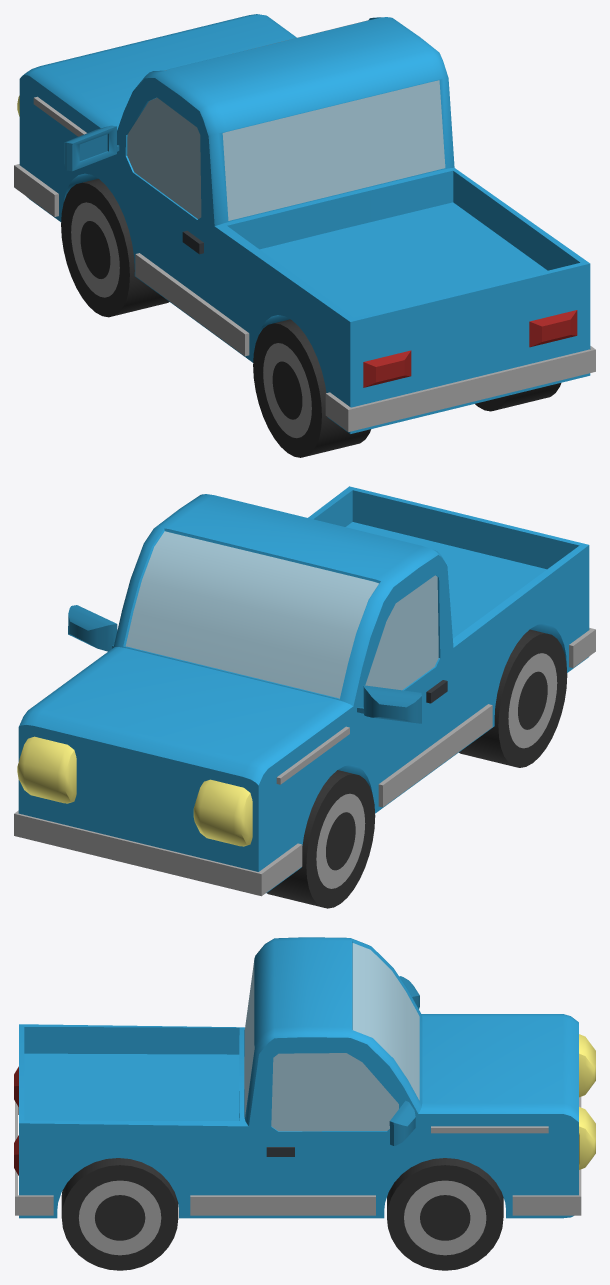
File: Mavi_araba.fbx
The picture shows the model from 3 angles, top to bottom: view 1: azimuth 30°, elevation 25°; view 2: azimuth 150°, elevation 25°; view 3: azimuth 270°, elevation 25°; orthographic projection. The views are drawn at different scales.
Parts seen in each view (by area): view 1: Mavi_govde, mavi_arka_cam, mavi_detay, Cylinder.010, Cylinder.008, mavi_Yan_camlar, mavi_arka_farlar, Cylinder.011, Cylinder.009, mavi_yan_aynalar, Cylinder.014; view 2: Mavi_govde, mavi_on_cam, mavi_detay, mavi_on_farlar, Cylinder.008, Cylinder.010, mavi_Yan_camlar, mavi_yan_aynalar, Cylinder.011, Cylinder.009; view 3: Mavi_govde, mavi_Yan_camlar, Cylinder.014, Cylinder.012, mavi_detay, mavi_on_cam, Cylinder.013, Cylinder.015, mavi_on_farlar, mavi_yan_aynalar, mavi_arka_cam.
Boxes of the visible parts, bbox=[...] form: Mavi_govde: bbox=[19, 14, 590, 433]; mavi_arka_cam: bbox=[222, 80, 445, 220]; mavi_detay: bbox=[14, 96, 595, 431]; Cylinder.010: bbox=[253, 319, 371, 457]; Cylinder.008: bbox=[61, 178, 169, 317]; mavi_Yan_camlar: bbox=[127, 97, 201, 219]; mavi_arka_farlar: bbox=[363, 310, 577, 387]; Cylinder.011: bbox=[263, 343, 311, 438]; Cylinder.009: bbox=[71, 202, 119, 297]; mavi_yan_aynalar: bbox=[64, 125, 119, 171]; Cylinder.014: bbox=[475, 383, 561, 411]; Mavi_govde: bbox=[18, 486, 589, 892]; mavi_on_cam: bbox=[125, 531, 378, 698]; mavi_detay: bbox=[14, 628, 595, 896]; mavi_on_farlar: bbox=[17, 736, 252, 846]; Cylinder.008: bbox=[267, 770, 375, 908]; Cylinder.010: bbox=[459, 629, 567, 767]; mavi_Yan_camlar: bbox=[365, 575, 438, 690]; mavi_yan_aynalar: bbox=[68, 605, 421, 723]; Cylinder.011: bbox=[508, 653, 557, 748]; Cylinder.009: bbox=[316, 793, 365, 888]; Mavi_govde: bbox=[19, 937, 578, 1218]; mavi_Yan_camlar: bbox=[271, 1053, 398, 1131]; Cylinder.014: bbox=[61, 1158, 178, 1270]; Cylinder.012: bbox=[387, 1158, 503, 1270]; mavi_detay: bbox=[15, 1097, 581, 1215]; mavi_on_cam: bbox=[352, 943, 419, 1100]; Cylinder.013: bbox=[404, 1180, 486, 1255]; Cylinder.015: bbox=[79, 1180, 161, 1255]; mavi_on_farlar: bbox=[579, 1034, 595, 1169]; mavi_yan_aynalar: bbox=[389, 976, 419, 1145]; mavi_arka_cam: bbox=[244, 960, 254, 1117].
Size of the model in its own units: 130 by 97.91 by 217.
